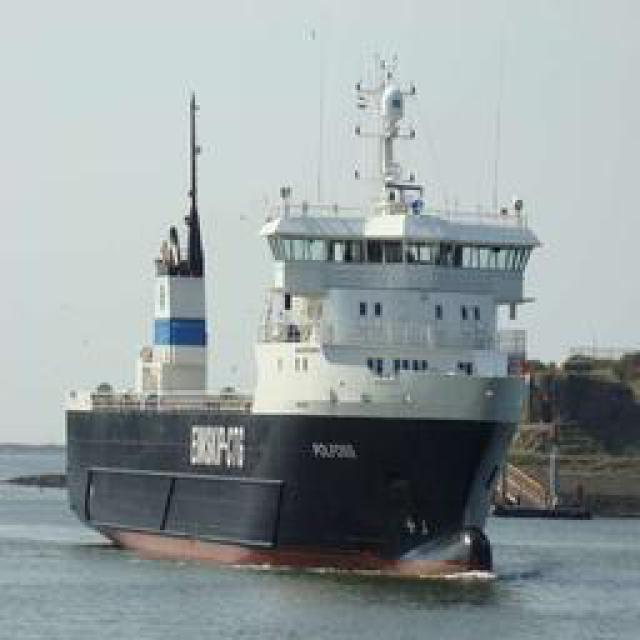Ship: (56, 3, 541, 591)
